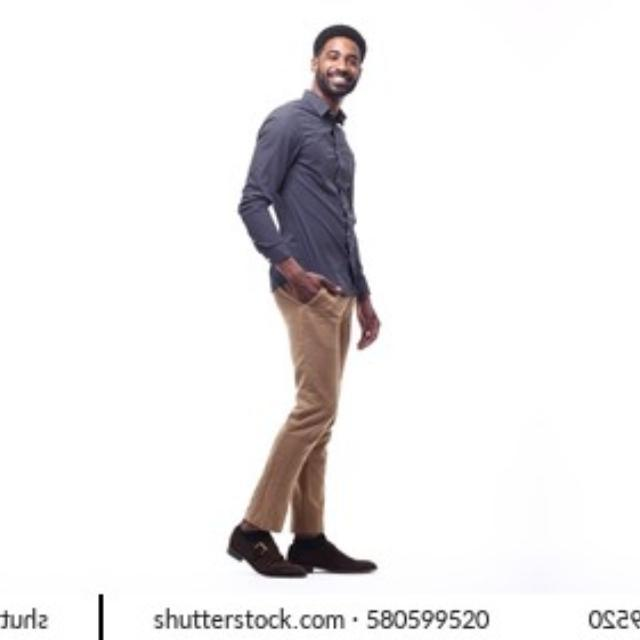person: (215, 16, 427, 576)
